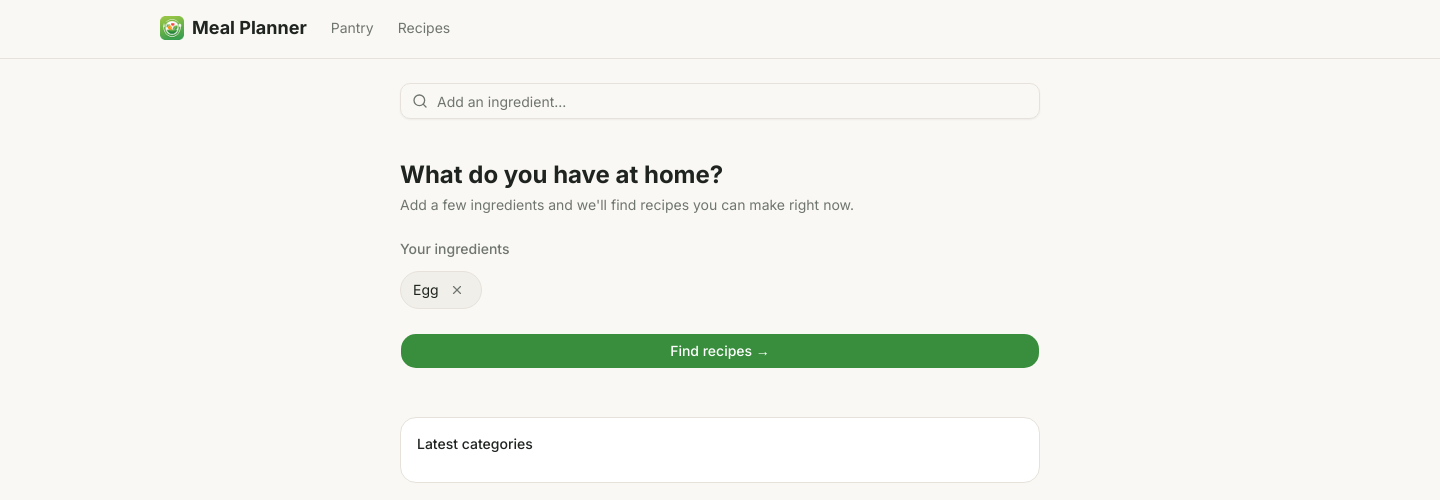
Test: App › disables Find recipes while an ingredient is being added
The image size is (1440, 500).
Type "Flour" into the field with placeholder "Add an ingredient..." at (720, 101), box [400,83,1040,119]
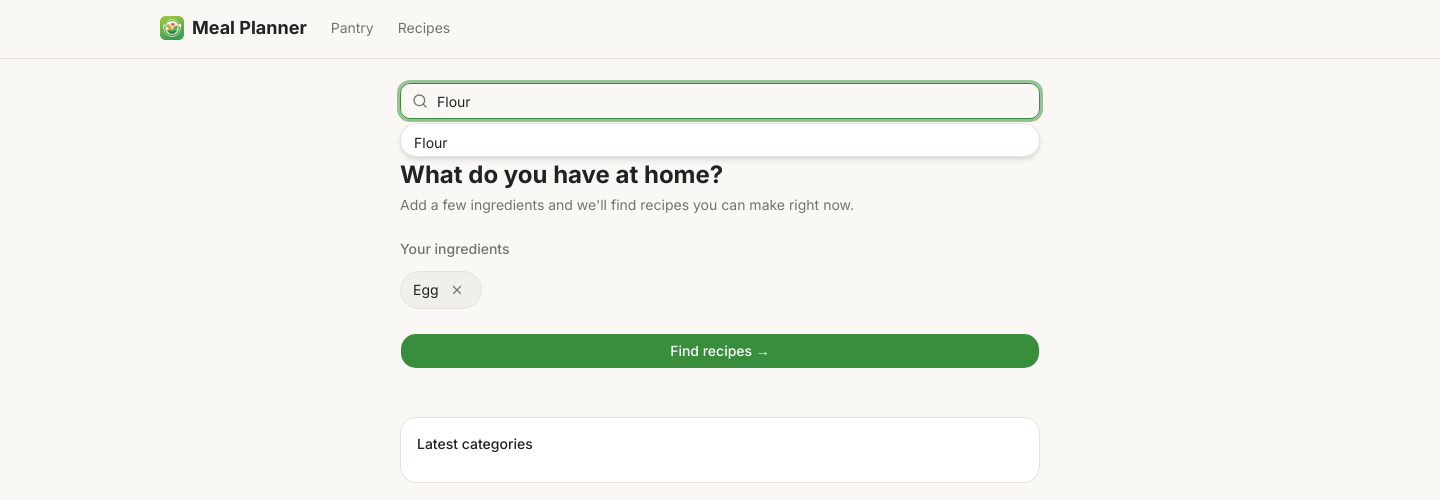
Click the button "Flour" at (431, 142), box [401,124,1039,156]
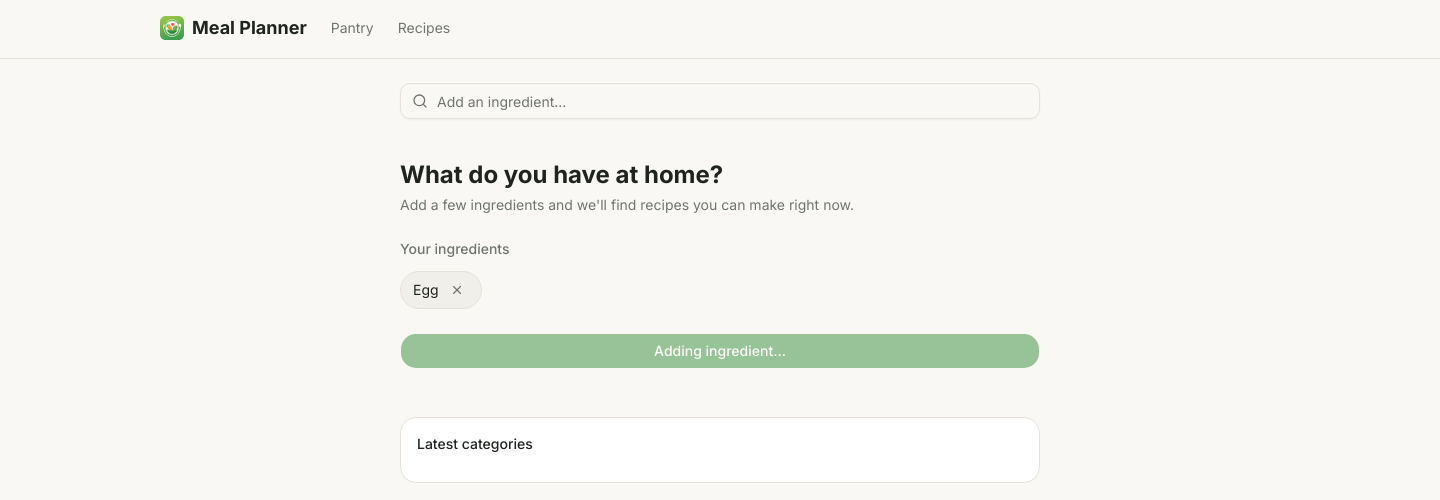
Check: the button "Adding ingredient…" is disabled, box [400,333,1040,369]
